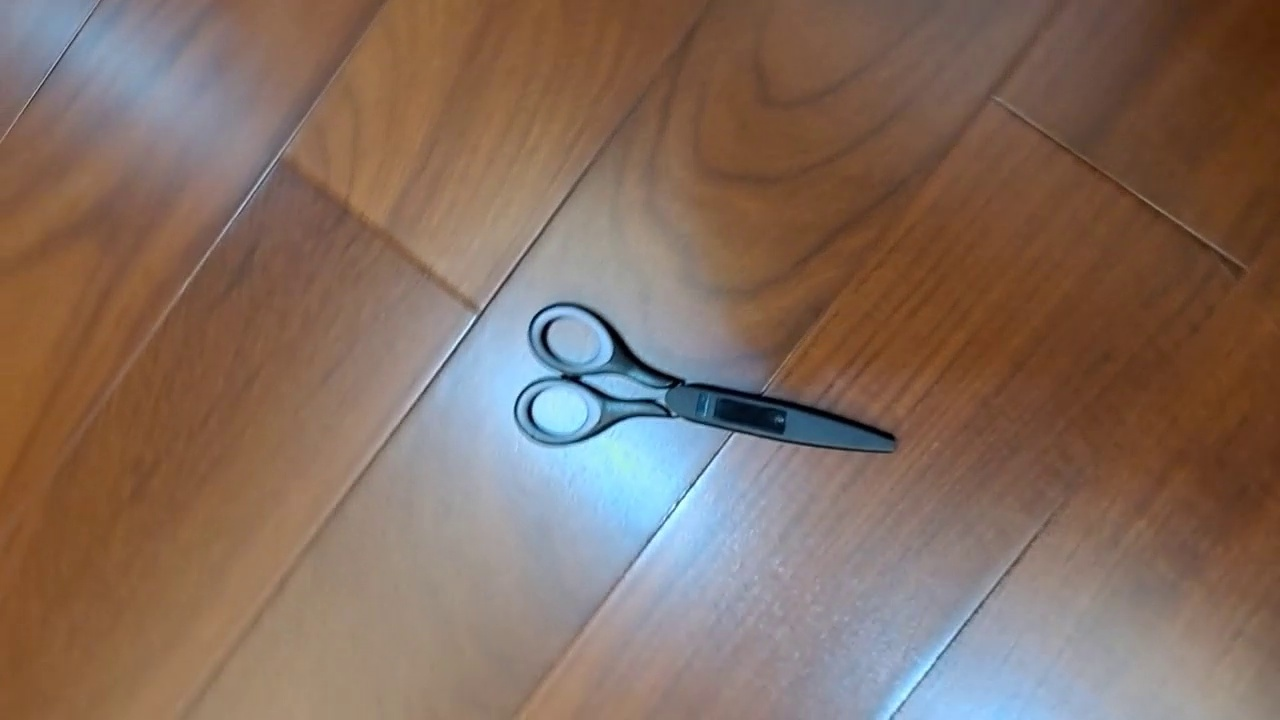scissors: (512, 300, 899, 455)
